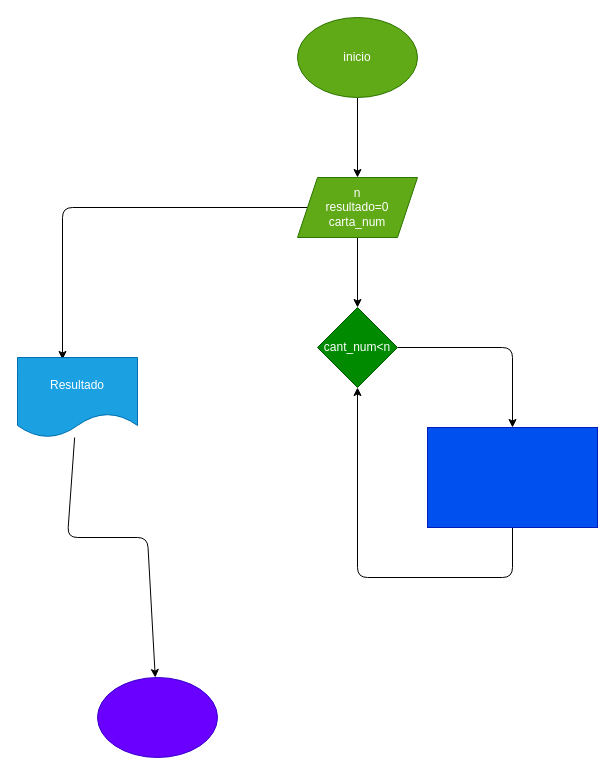
Image size: 615x775. Some labels were removed from this diagram. The shapes that lost their labels are listed below. From the top down, each one's centre as x and y in pixels, then its label:
the point at 512,477: cant=num=cant_num+1 resultado=cant_num+resultado
the point at 157,717: fin
